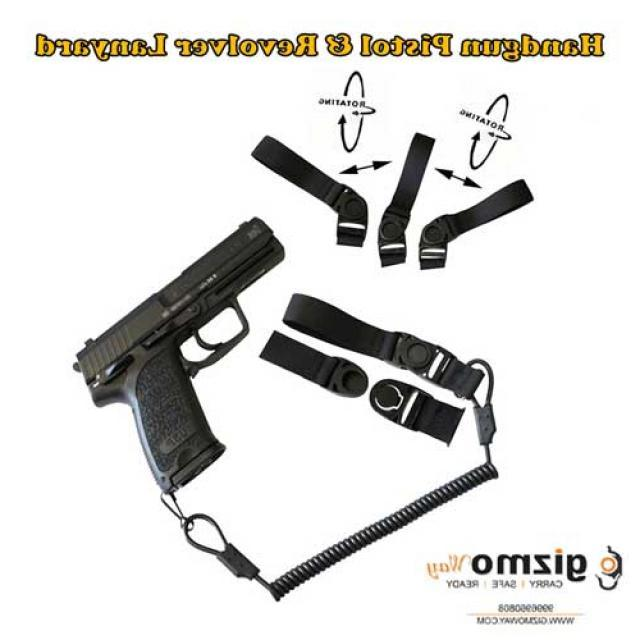pistol: (80, 207, 273, 498)
